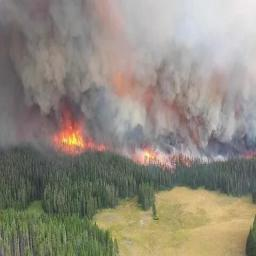Heavy smoke: (1, 3, 243, 113)
Large fire: (45, 111, 256, 174)
